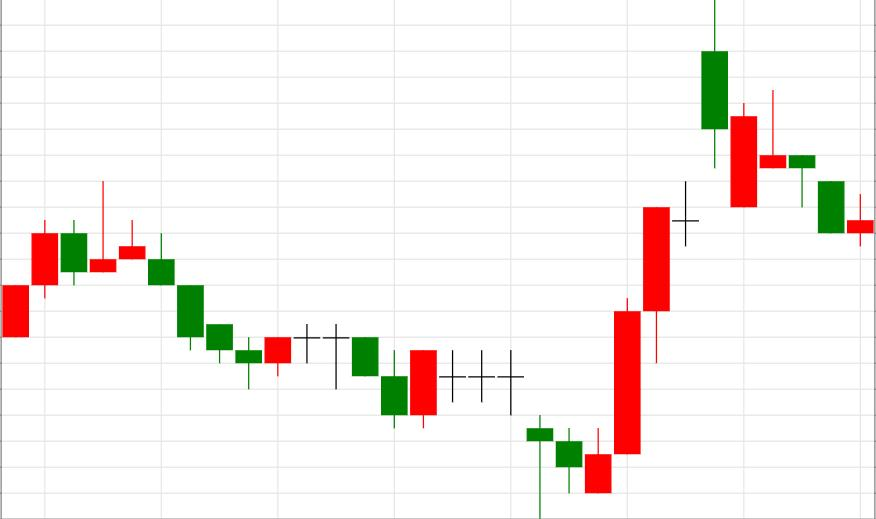three_white_soldiers_rise: (439, 208, 669, 519)
